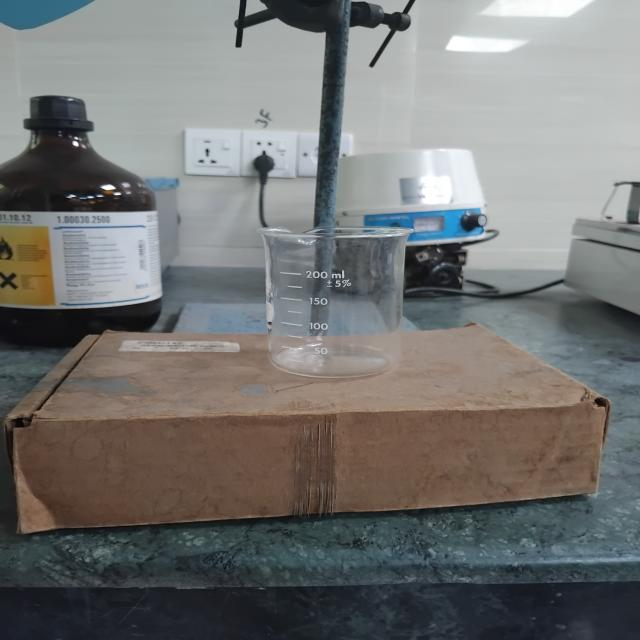Beaker: (242, 202, 420, 381)
